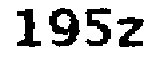1: (11, 6, 42, 53)
5: (85, 6, 115, 48)
9: (46, 5, 82, 51)
z: (114, 17, 147, 49)
